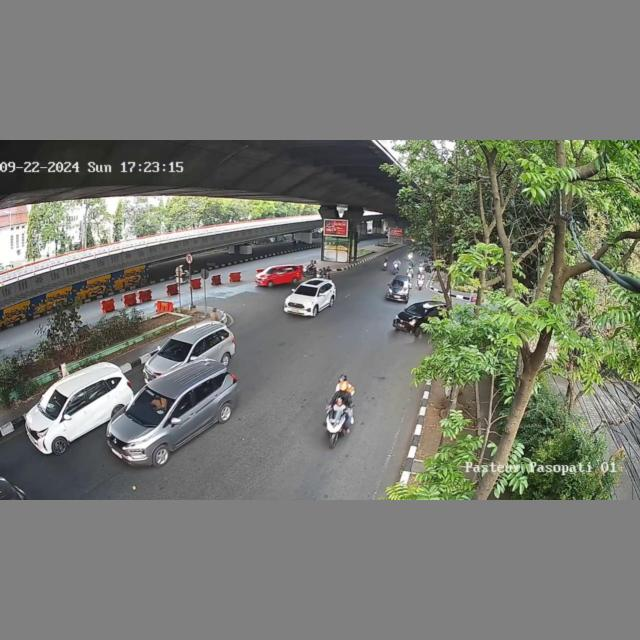windshield: (130, 387, 175, 429), (38, 388, 68, 421), (157, 338, 192, 360), (295, 285, 318, 295)
